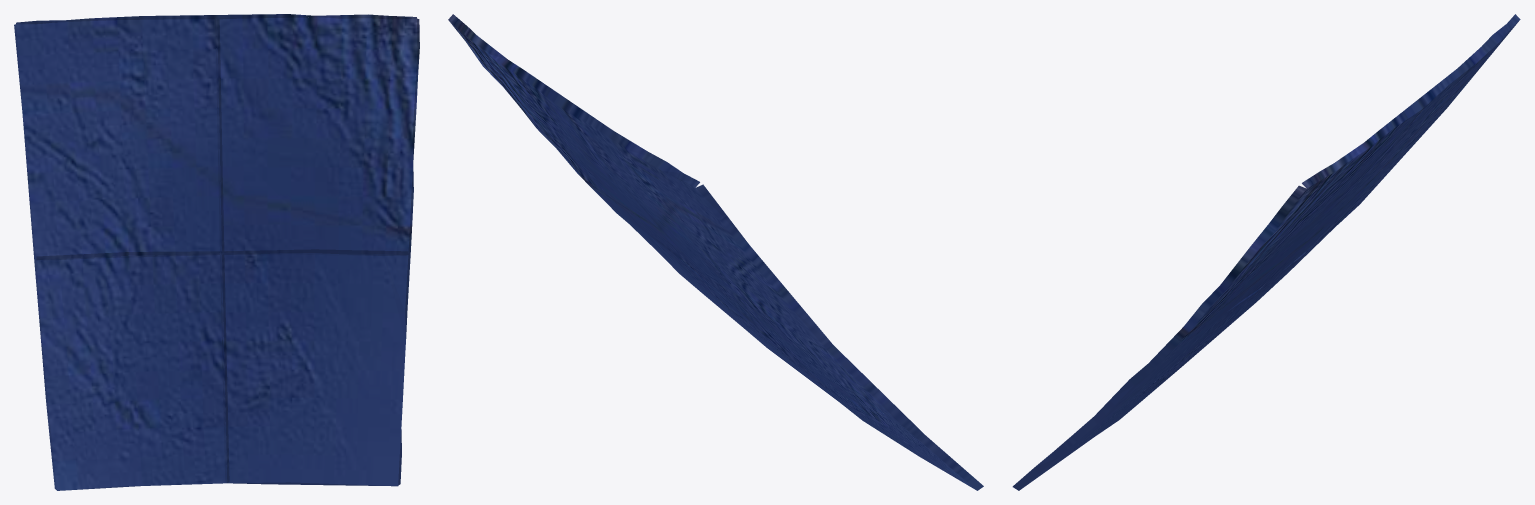
3 renders of one model, left to right at view 1: azimuth 30°, elevation 25°; view 2: azimuth 150°, elevation 25°; view 3: azimuth 270°, elevation 25°, orthographic. The views are drawn at different scales.
Bounding box in the file's own units: 1232749 × 984617 × 1168004.
1 material, 1 textured.
